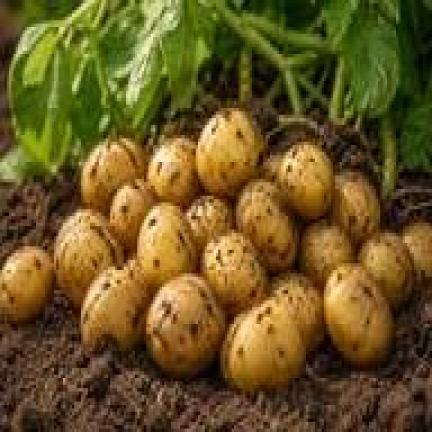potato: (146, 273, 223, 375), (223, 297, 304, 388), (324, 263, 392, 364), (56, 209, 122, 304), (81, 260, 151, 348), (236, 179, 297, 270), (198, 108, 263, 192), (202, 233, 266, 314), (137, 206, 196, 284), (81, 138, 144, 209), (277, 142, 333, 216), (358, 233, 412, 307), (0, 246, 52, 317), (299, 219, 353, 287), (272, 273, 320, 348), (146, 138, 198, 202), (110, 179, 153, 250), (333, 176, 378, 243), (187, 199, 232, 250), (403, 223, 430, 280), (261, 152, 281, 179)
